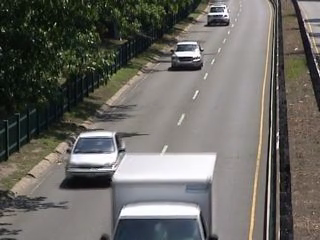car: (58, 127, 133, 189), (167, 39, 207, 72), (205, 5, 233, 29)
truck: (101, 151, 223, 240)
